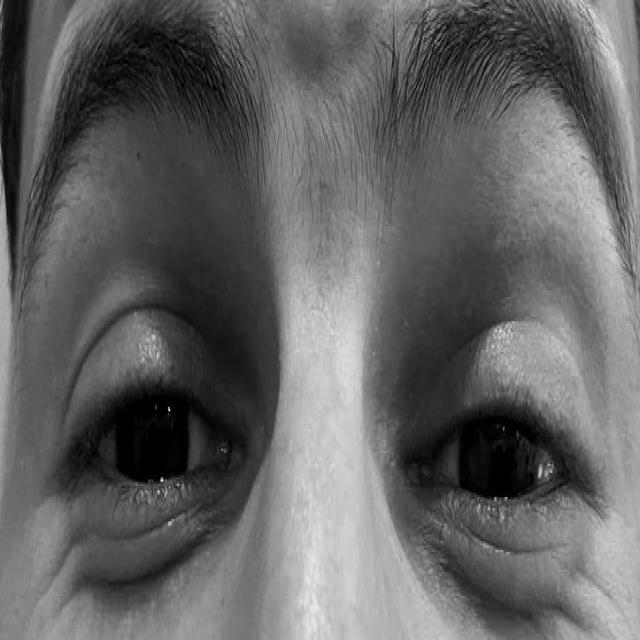real: (40, 85, 631, 618)
